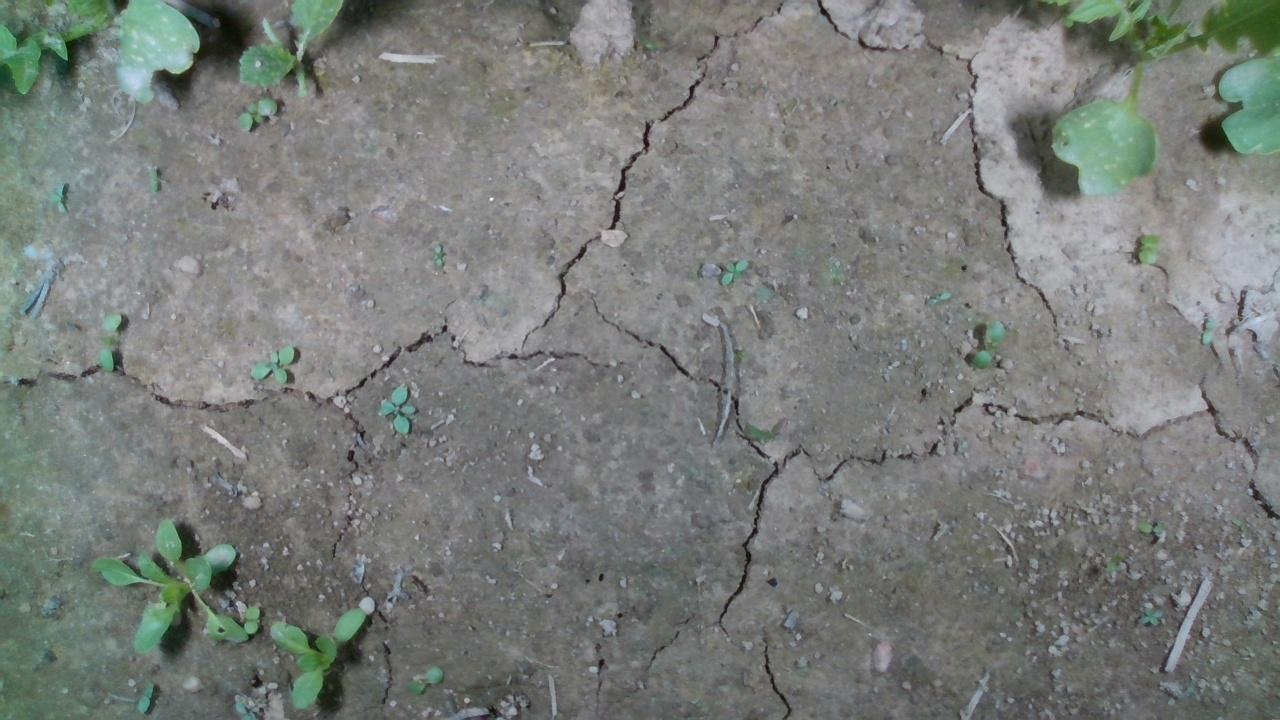weed: (378, 383, 416, 434), (247, 343, 294, 383), (969, 322, 1005, 368), (95, 311, 122, 372), (237, 96, 277, 131), (411, 664, 443, 693), (719, 256, 748, 286), (47, 177, 68, 214), (1136, 233, 1159, 266), (1136, 606, 1162, 625), (243, 604, 259, 632), (147, 164, 159, 193), (1138, 520, 1163, 533), (433, 242, 444, 269)
